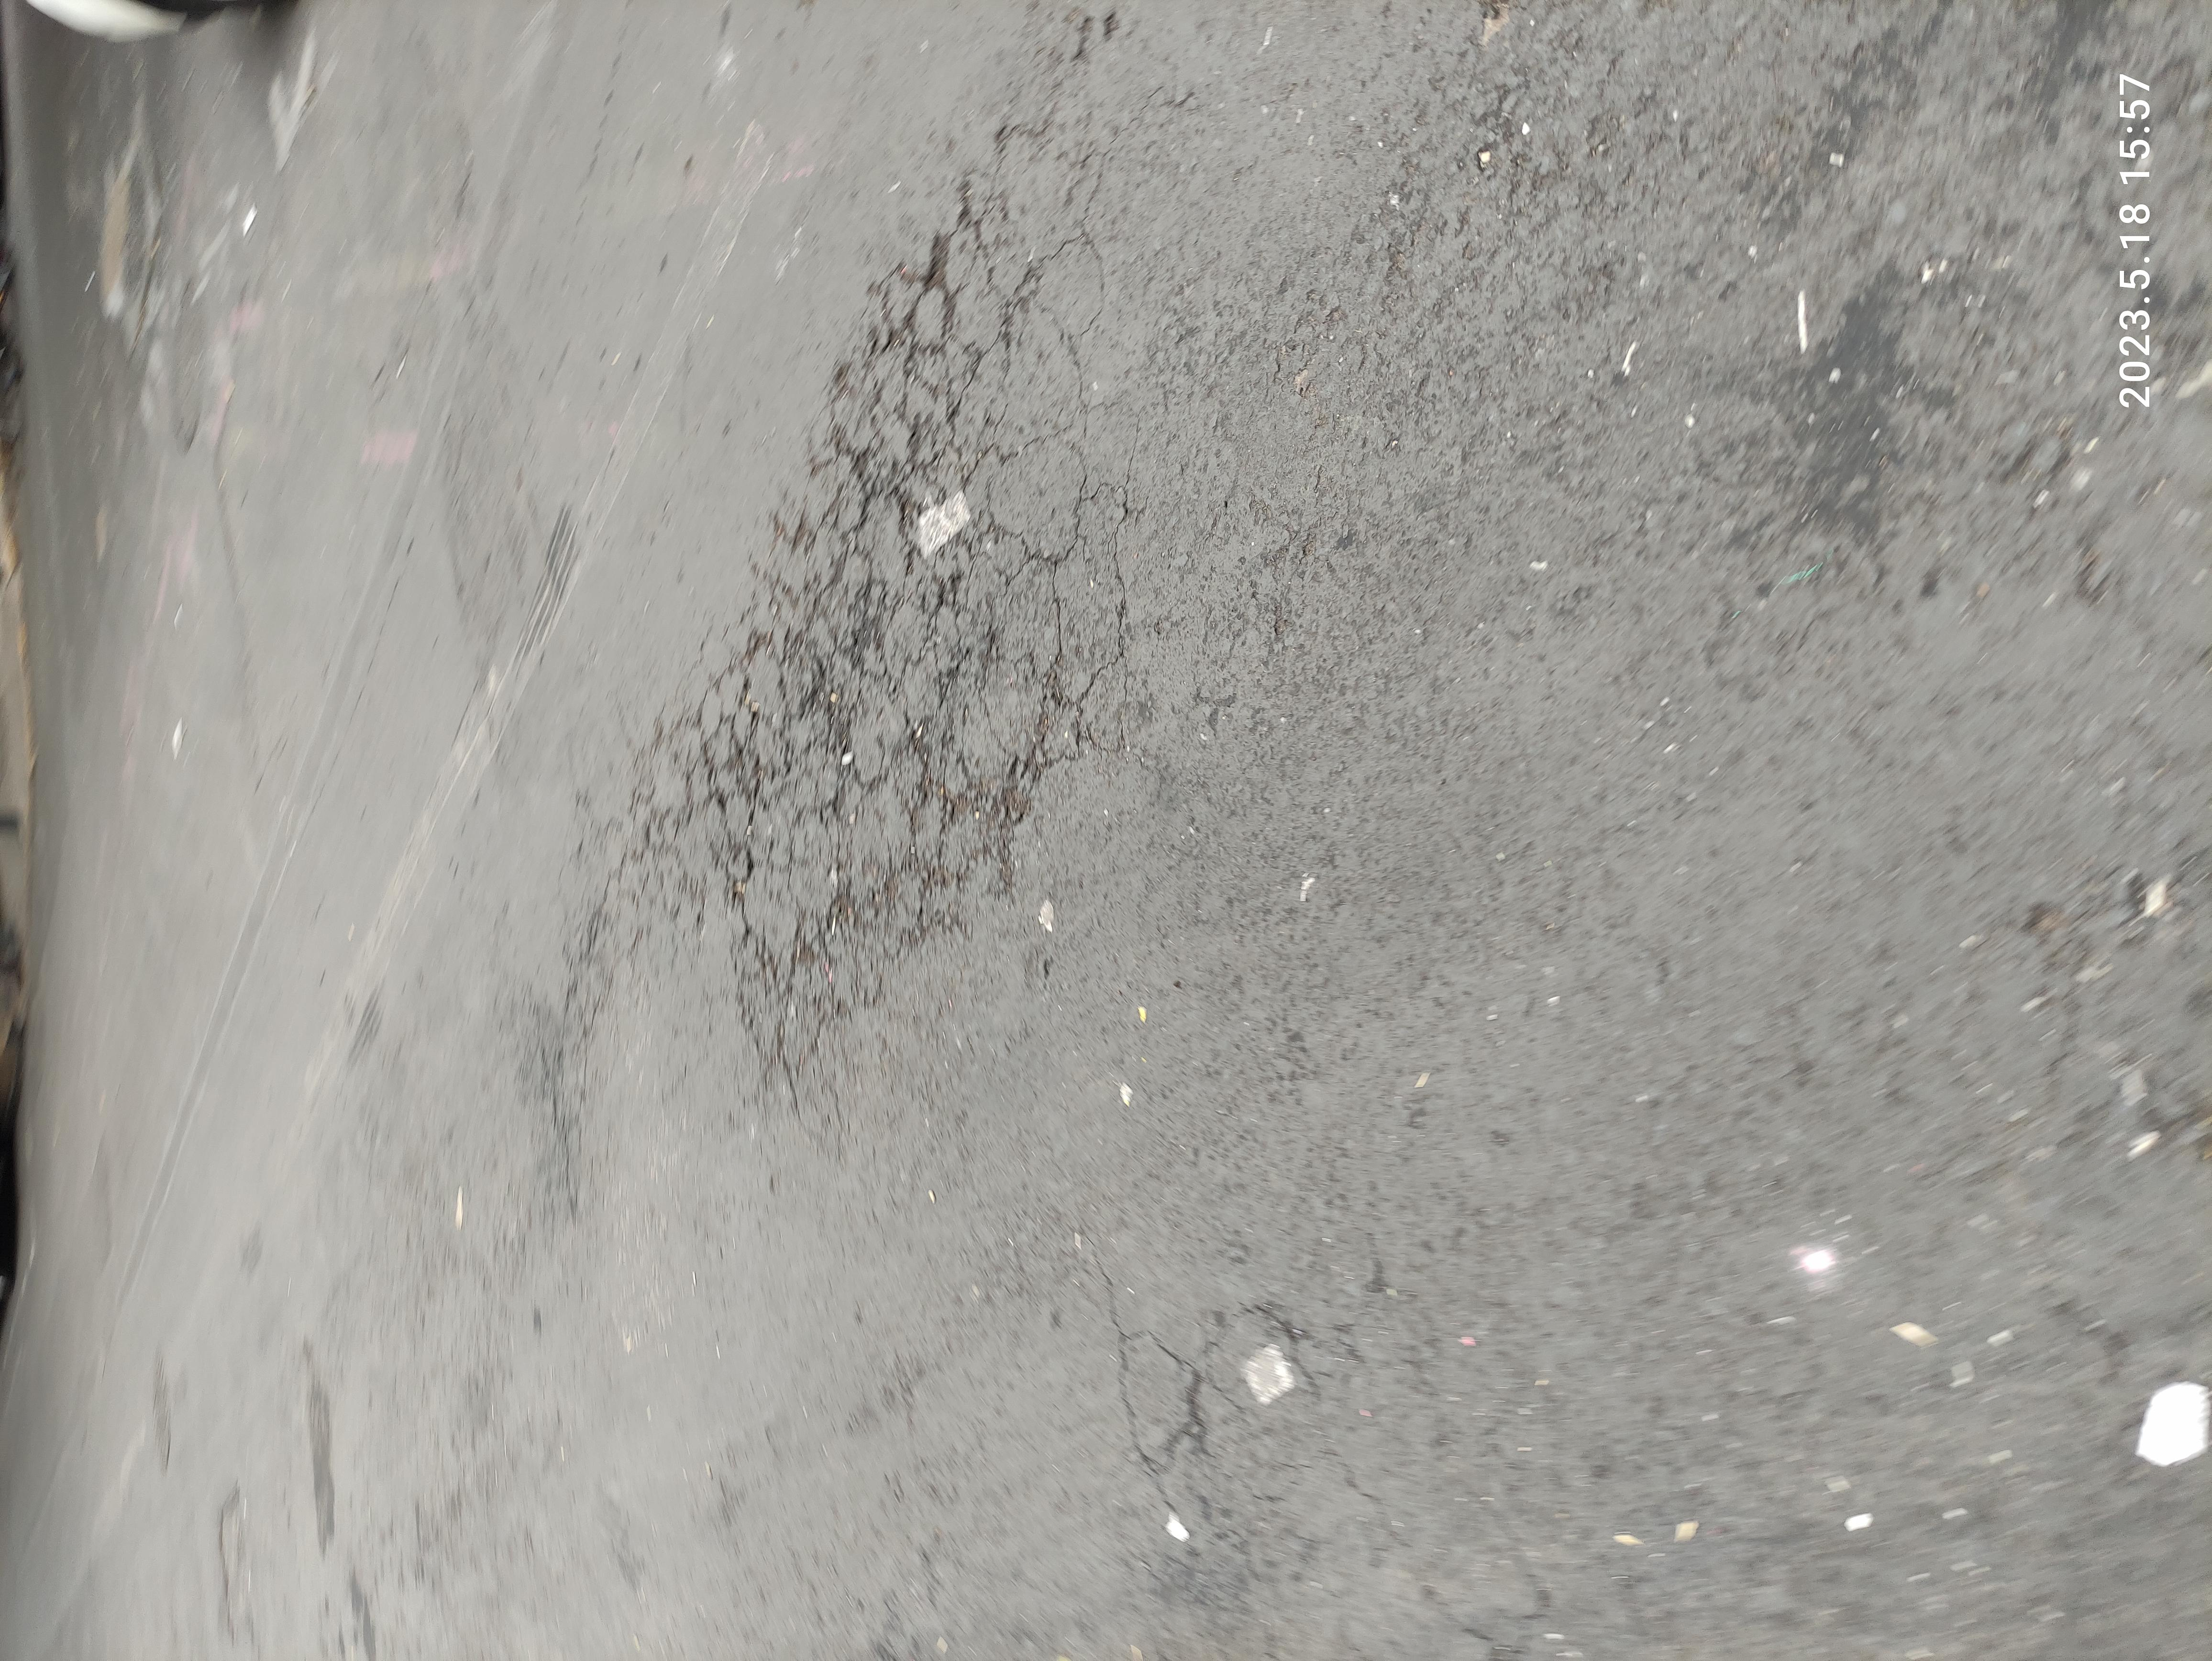alligator-crack: (661, 403, 2069, 871), (72, 829, 499, 1056)
pothole: (38, 155, 242, 194)
